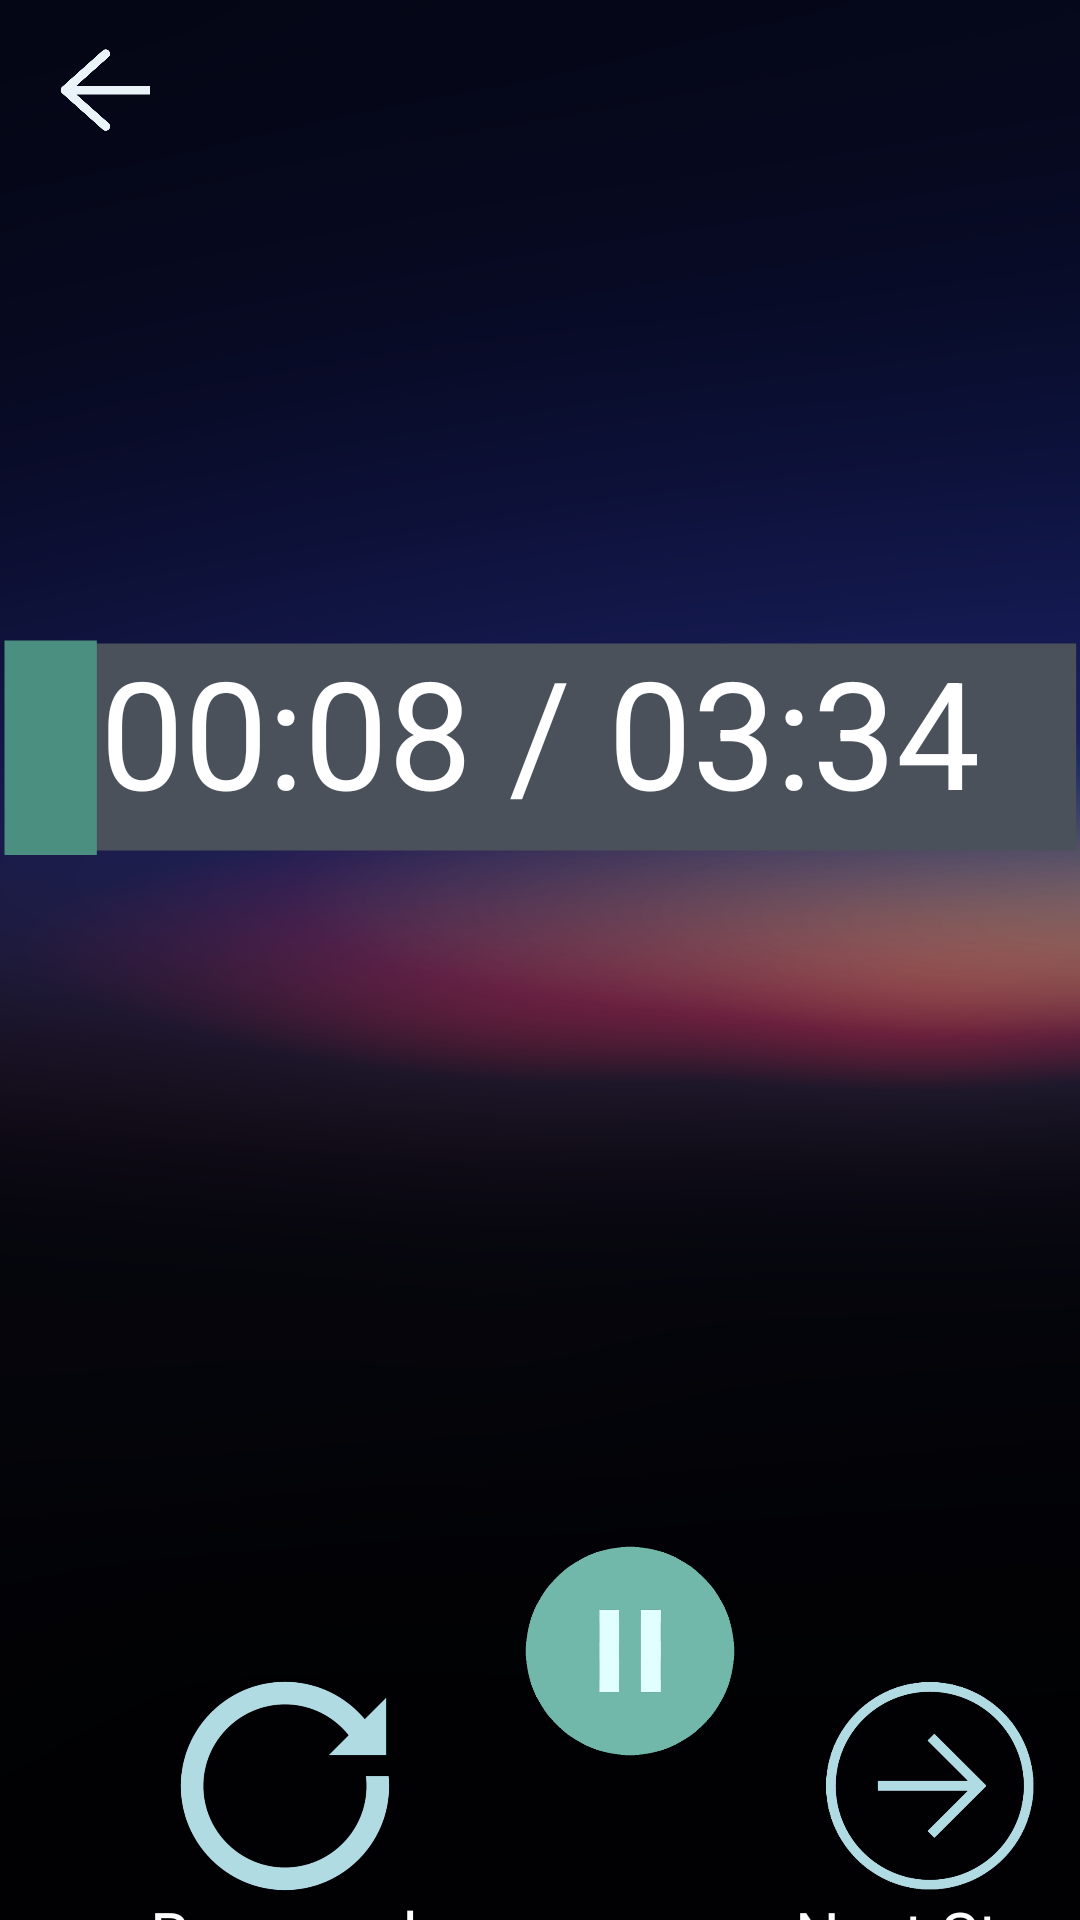

Locate icon controls on the screen. Image size 1080w x 1920h, boxes as {"x1": x1, "y1": y1, "x2": x2, "y2": y2}.
back: {"x1": 61, "y1": 49, "x2": 150, "y2": 131}
pausa: {"x1": 525, "y1": 1546, "x2": 735, "y2": 1756}
